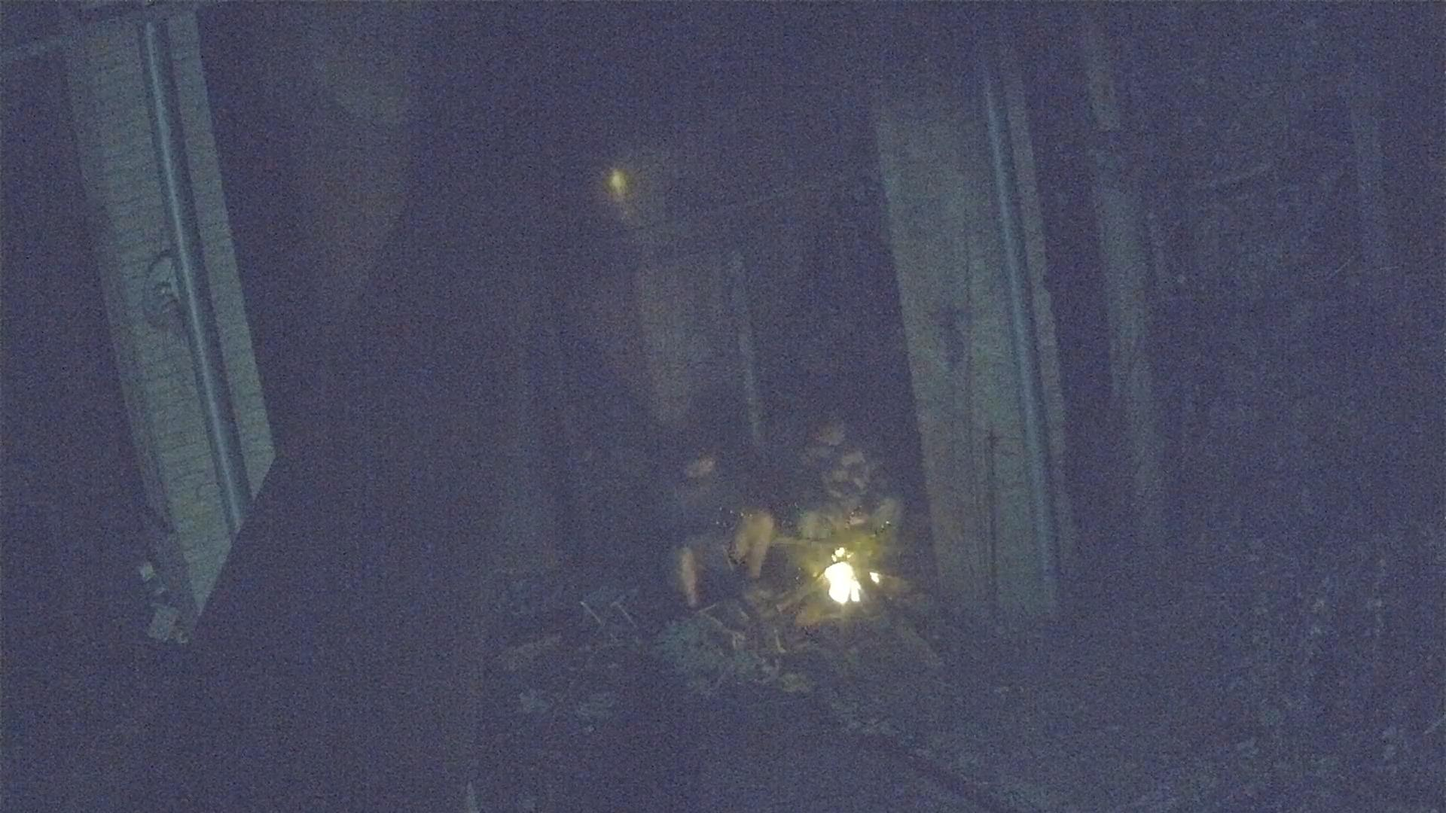fire: (822, 549, 861, 605)
